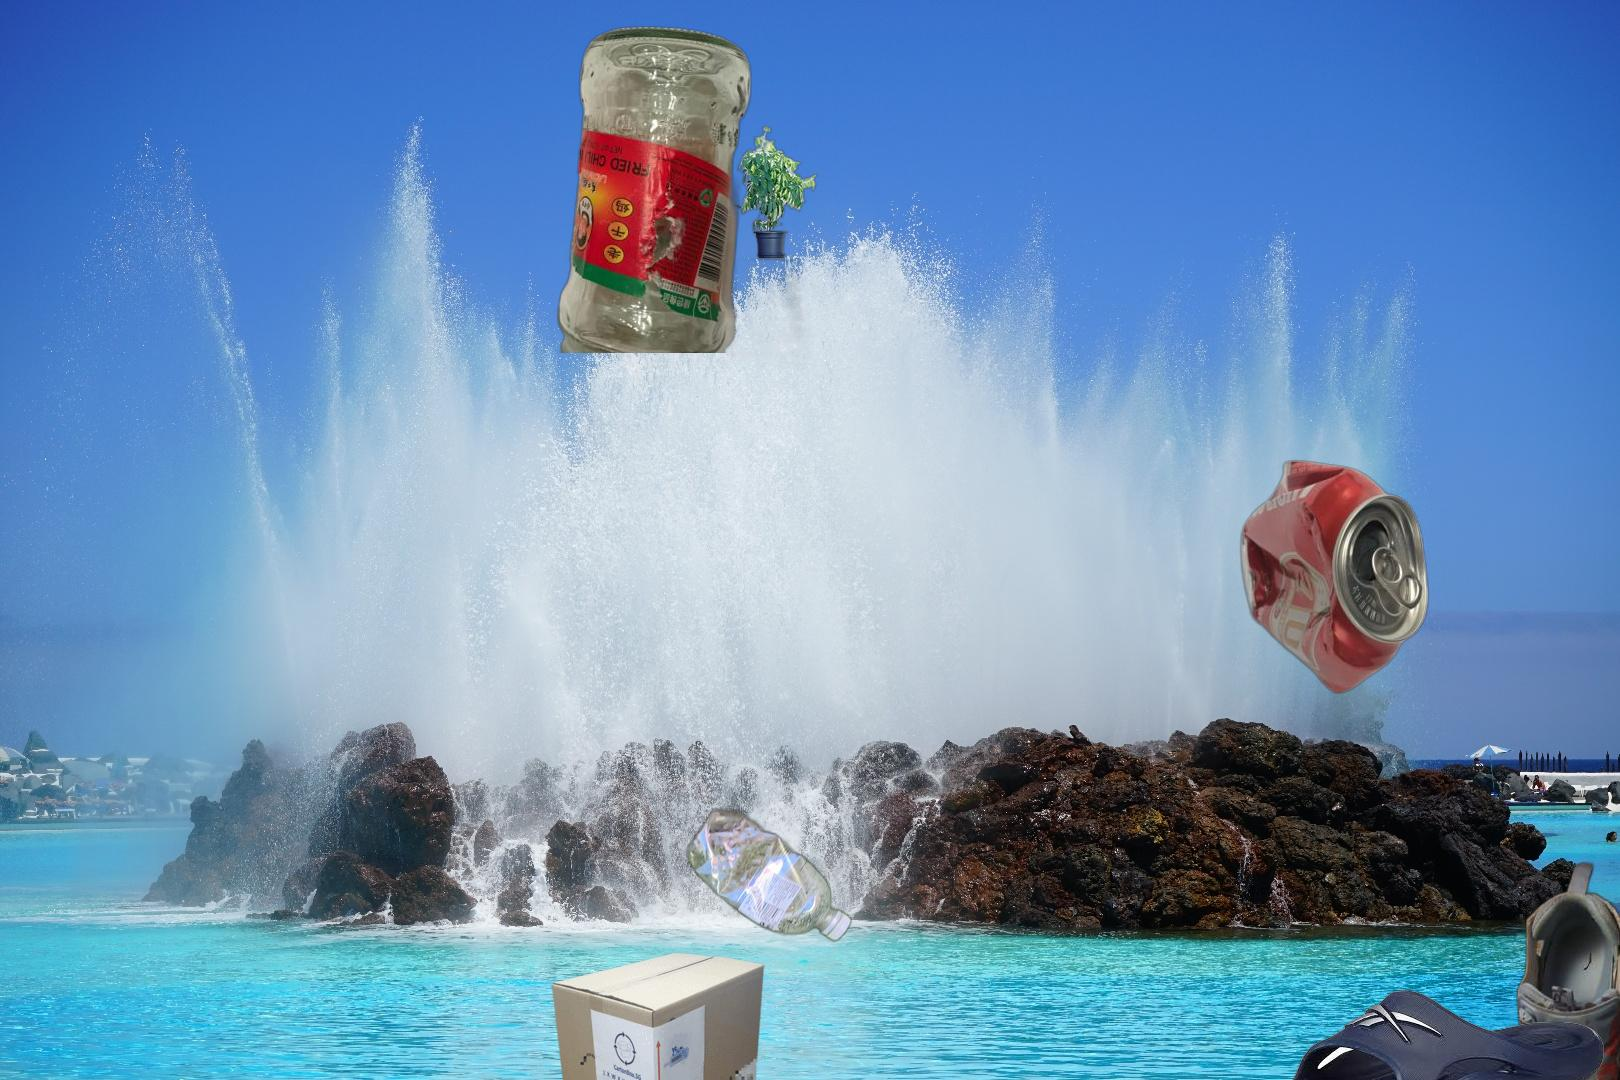glass: (554, 24, 756, 353)
metal-cans: (1235, 458, 1433, 697)
plastic-bottles: (556, 803, 855, 1080)
shoes: (1262, 990, 1606, 1080), (1514, 852, 1620, 1080)
trashbox-cardboard: (628, 123, 821, 394), (551, 952, 765, 1080)
